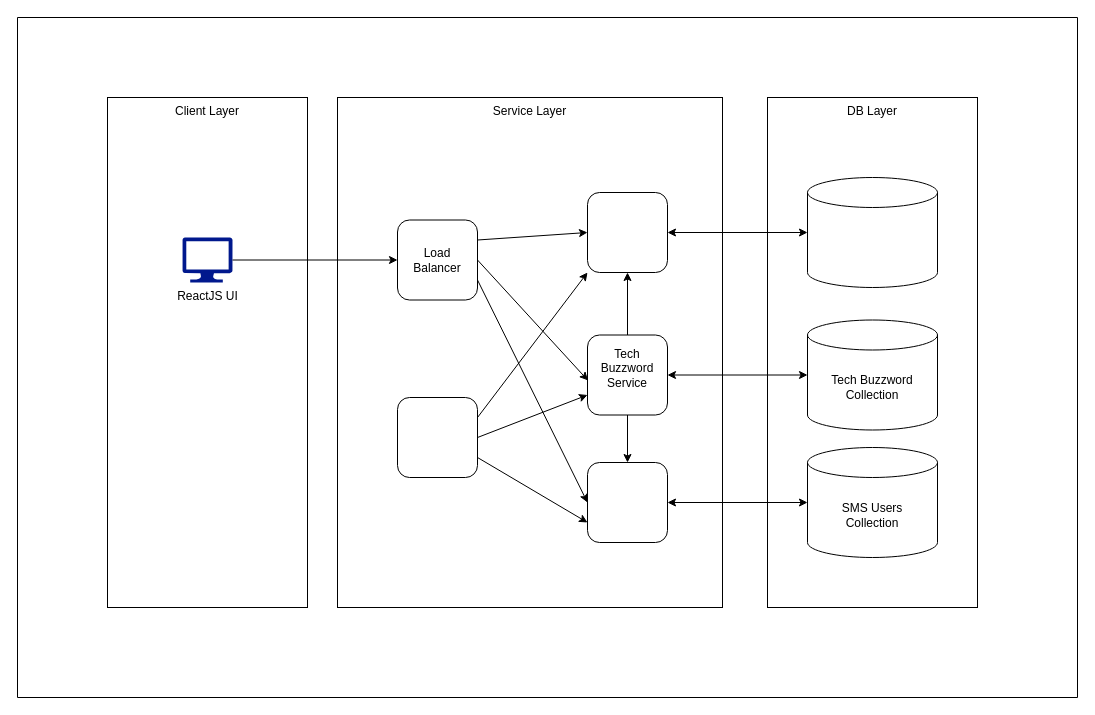
Some shapes in this 1095 by 715 pixel diagram are drawn without their labels. The centre of each missing label's shape, as x and y in pixels:
"Cron Service" goes at (437,437).
"Email Service" goes at (627,232).
"Email Users Collection" goes at (872,232).
"SMS Service" goes at (627,502).
